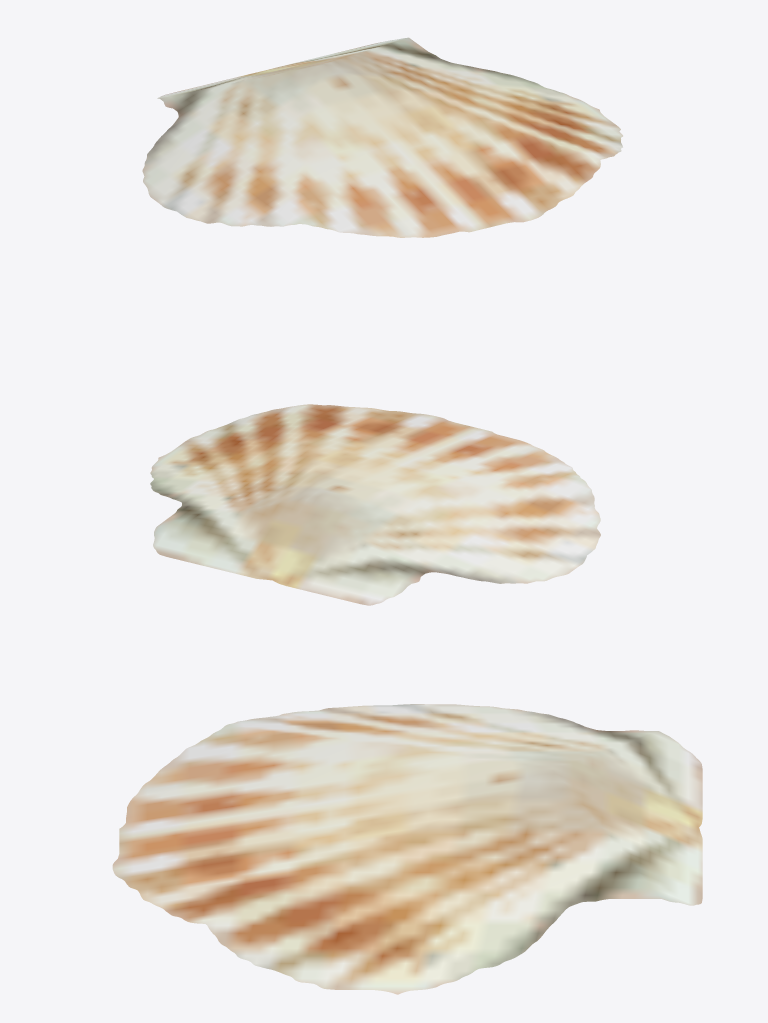
File: shor_seashell_scallop_a1_l0.fbx
The picture shows the model from 3 angles, top to bottom: view 1: azimuth 30°, elevation 25°; view 2: azimuth 150°, elevation 25°; view 3: azimuth 270°, elevation 25°; orthographic projection. The views are drawn at different scales.
Parts seen in each view (by area): view 1: mesh_node; view 2: mesh_node; view 3: mesh_node.
Part boxes in pixels (<box>): mesh_node: <box>142,37,622,237</box>; mesh_node: <box>150,404,600,605</box>; mesh_node: <box>112,704,702,994</box>.
Size of the model in its own units: 0.1005 by 0.0123 by 0.1005.
Materials: 1 (1 with a texture image).
